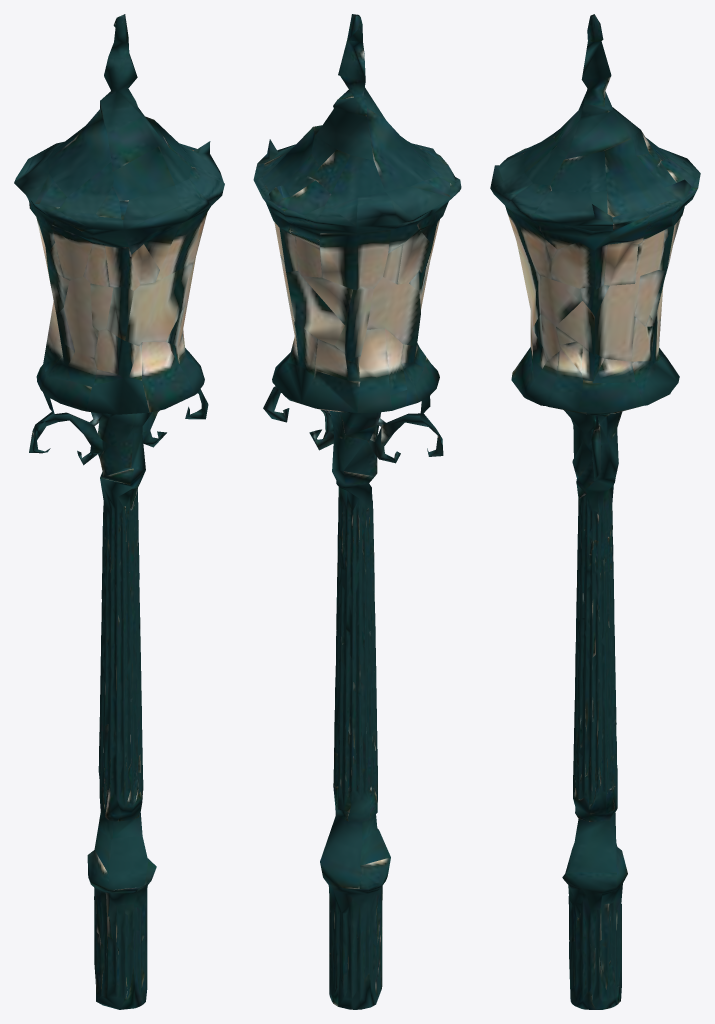
File: lamp.glb
3 renders of one model, left to right at view 1: azimuth 30°, elevation 25°; view 2: azimuth 150°, elevation 25°; view 3: azimuth 270°, elevation 25°, orthographic.
Size of the model in its own units: 0.362 by 1.88 by 0.3646.
1 material, 1 textured.
